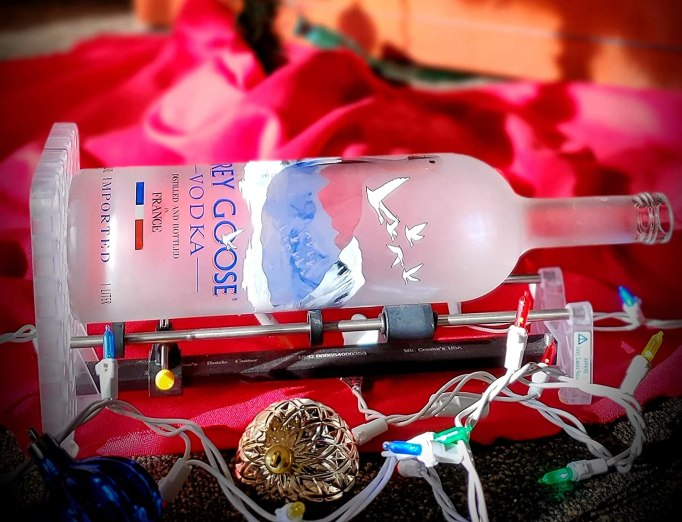glass_bottle: (65, 147, 677, 334)
